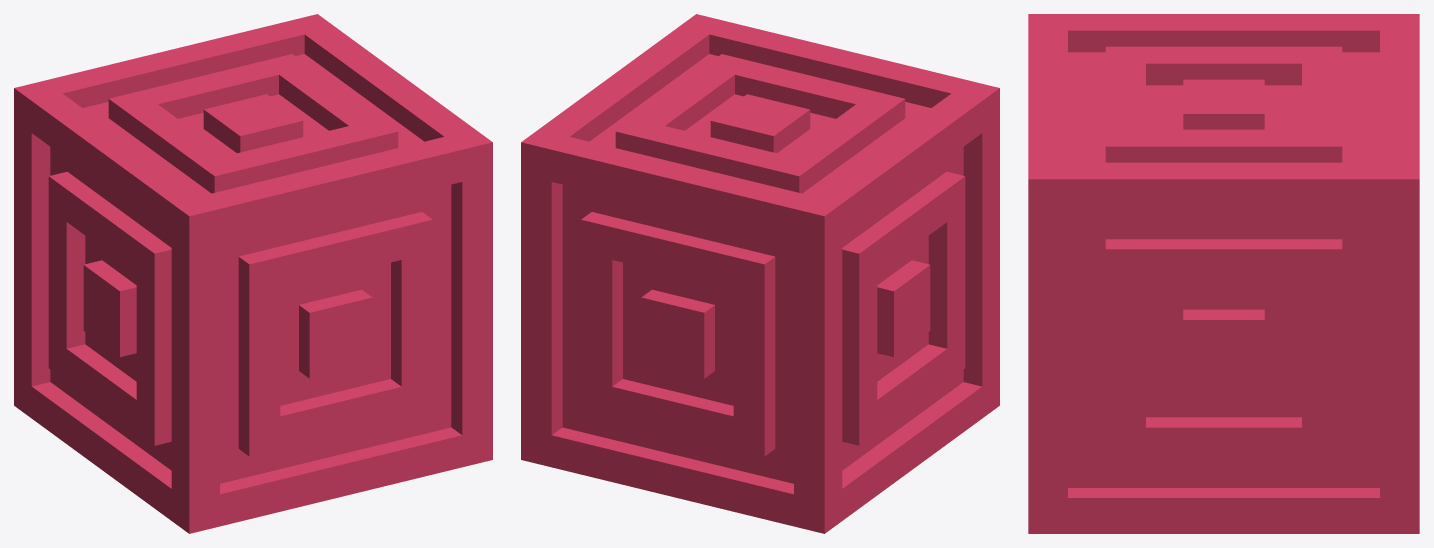
Rendered from cube_with_insets.gltf.
The picture shows the model from 3 angles, left to right: view 1: azimuth 30°, elevation 25°; view 2: azimuth 150°, elevation 25°; view 3: azimuth 270°, elevation 25°; orthographic projection. The views are drawn at different scales.
Parts seen in each view (by area): view 1: Cube; view 2: Cube; view 3: Cube.
Part boxes in pixels (bbox=[...]): Cube: bbox=[14, 14, 492, 533]; Cube: bbox=[521, 14, 999, 533]; Cube: bbox=[1028, 14, 1419, 533].
Bounding box in the file's own units: 2 × 2 × 2.
